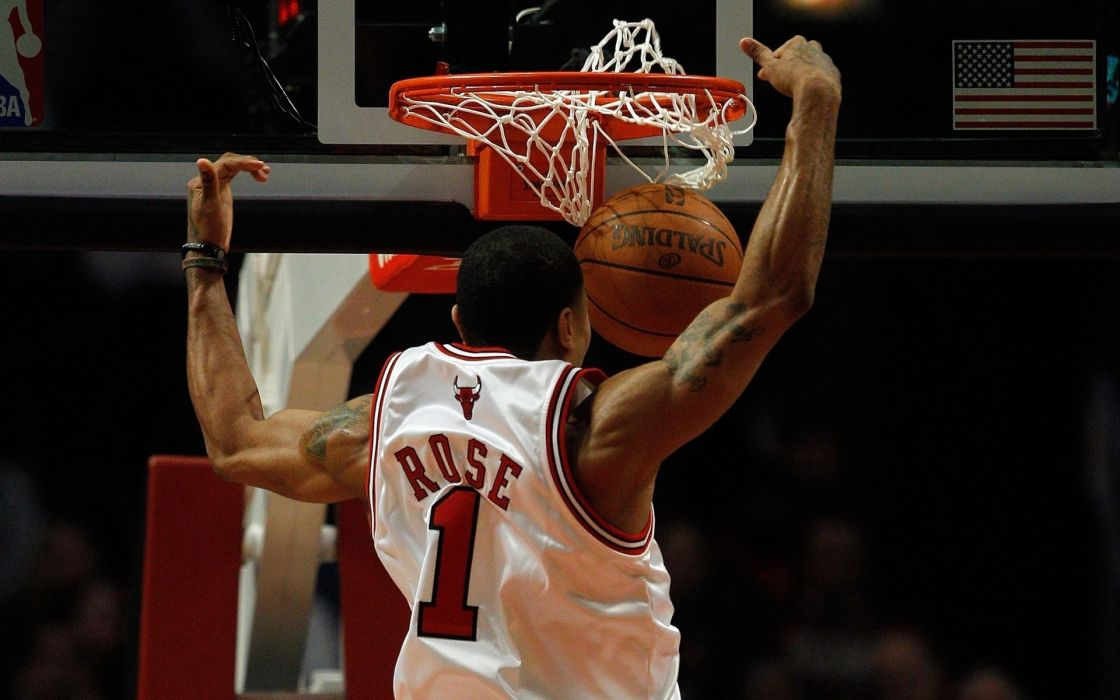Basketball: (570, 179, 758, 356)
